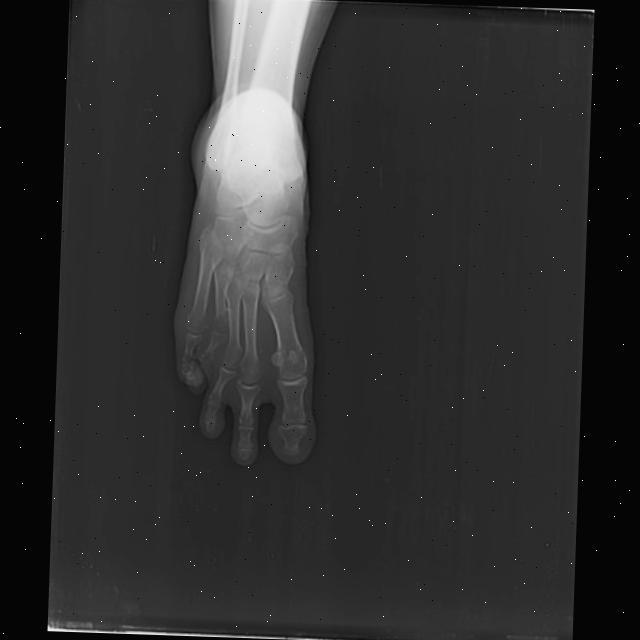Fracture: (206, 299, 233, 345)
